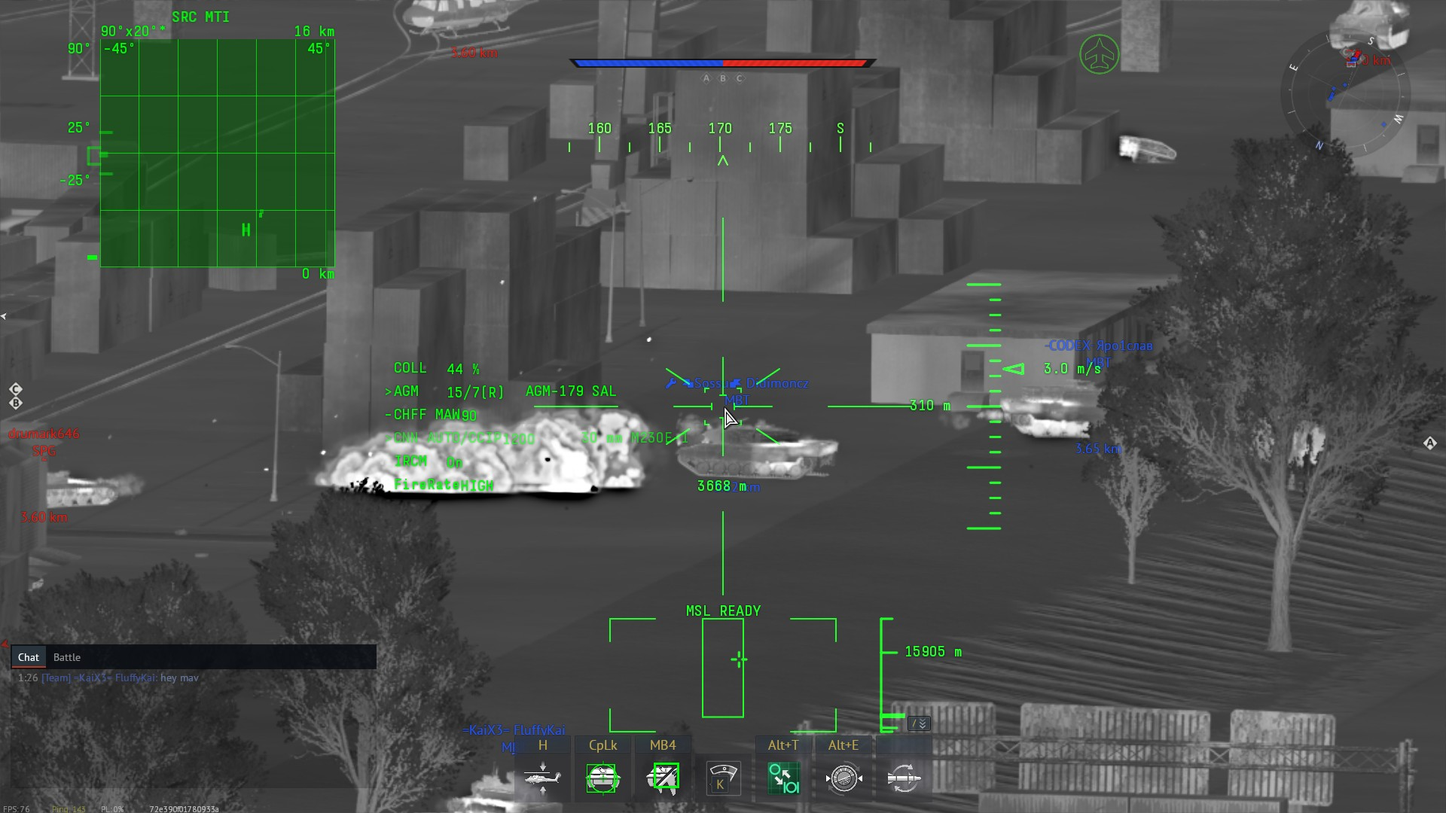leopard2: (668, 422, 842, 480)
